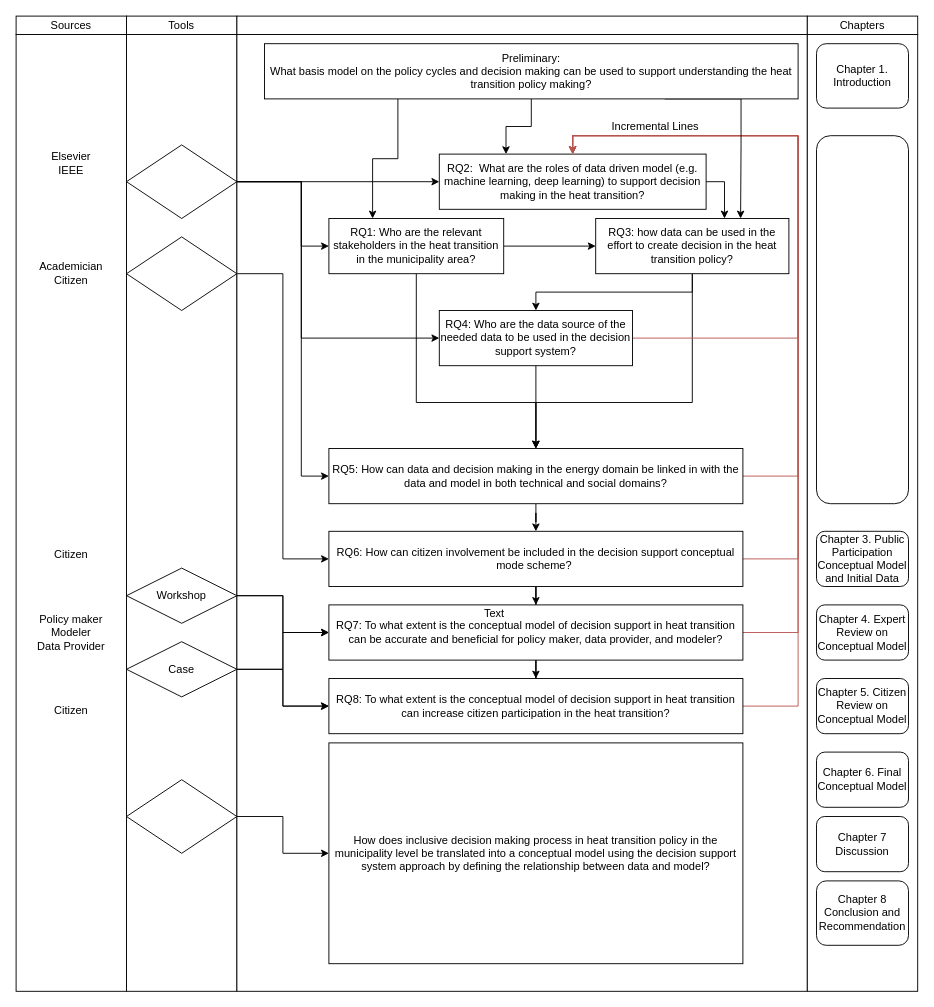
This 934x1007 diagram has some shape labels left out. Each missing label, with the centre of its shape:
Chapter 2. Conceptual Model: the point at 862,319
Expert and public interview: the point at 181,273
Flow Diagram: the point at 521,24
R studio, Microsoft excel: the point at 181,816
Scopus Google Scholar: the point at 181,181
